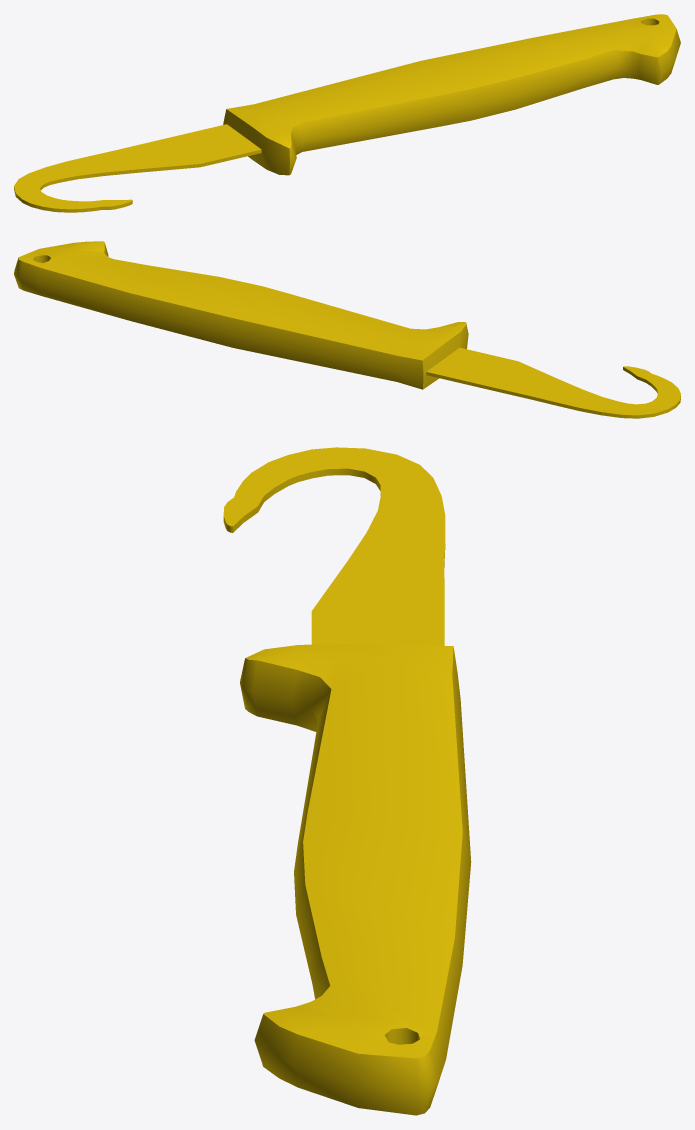
Rendered from SM_Knife_19.FBX.
The picture shows the model from 3 angles, top to bottom: view 1: azimuth 30°, elevation 25°; view 2: azimuth 150°, elevation 25°; view 3: azimuth 270°, elevation 25°; orthographic projection. The views are drawn at different scales.
Parts seen in each view (by area): view 1: Knife_19; view 2: Knife_19; view 3: Knife_19.
Part boxes in pixels (bbox=[...]): Knife_19: bbox=[14, 14, 680, 212]; Knife_19: bbox=[14, 241, 680, 418]; Knife_19: bbox=[223, 447, 471, 1115].
Size of the model in its own units: 18.46 by 1.02 by 3.08.
